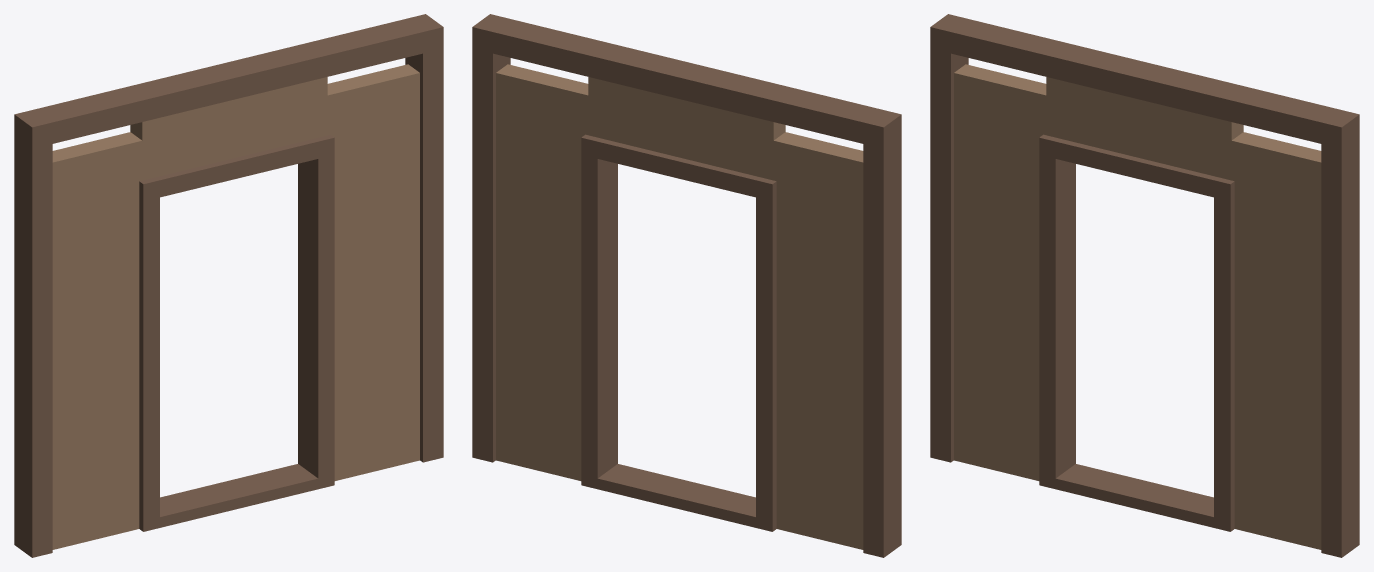
The model's file is haunted_wall_doorframe.glb.
The picture shows the model from 3 angles, left to right: view 1: azimuth 30°, elevation 25°; view 2: azimuth 150°, elevation 25°; view 3: azimuth 330°, elevation 25°; orthographic projection.
Visible parts, largest first — view 1: Haunted_Wall_DoorFrame; view 2: Haunted_Wall_DoorFrame; view 3: Haunted_Wall_DoorFrame.
Boxes of the visible parts, x1,y1,x2,y2 form: Haunted_Wall_DoorFrame: (14,14,443,557); Haunted_Wall_DoorFrame: (472,14,901,557); Haunted_Wall_DoorFrame: (930,14,1359,557).
Bounding box in the file's own units: 4 × 4 × 0.34.
